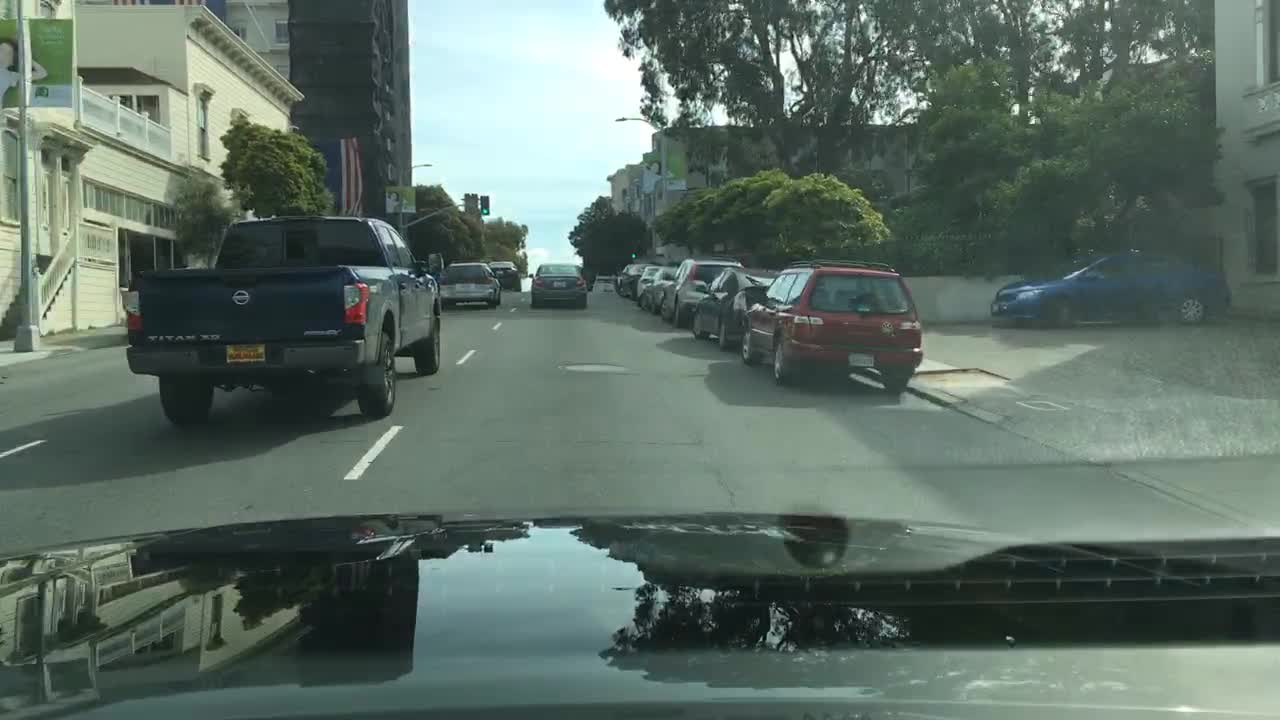car: (739, 254, 921, 393), (989, 243, 1233, 331), (689, 263, 782, 351), (659, 256, 747, 328), (434, 261, 503, 309), (527, 262, 592, 309), (644, 263, 677, 316), (484, 258, 523, 292), (617, 261, 650, 297), (635, 262, 662, 303), (594, 274, 613, 292)
traffic light: (479, 196, 490, 218)
truck: (123, 211, 446, 428)
